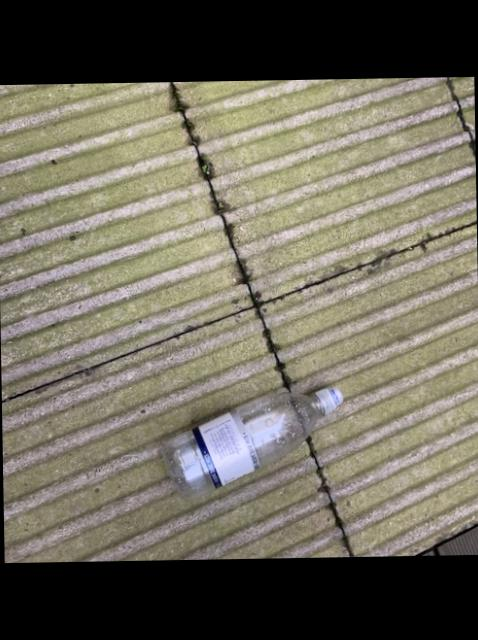plastic: (162, 389, 342, 501)
